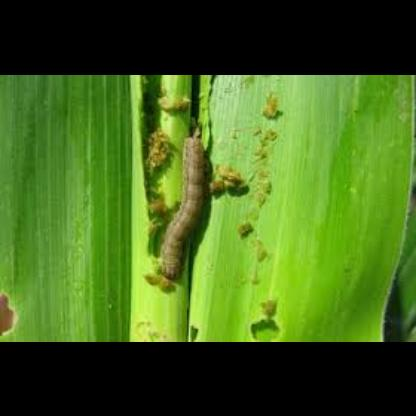oruga: (144, 134, 209, 282)
